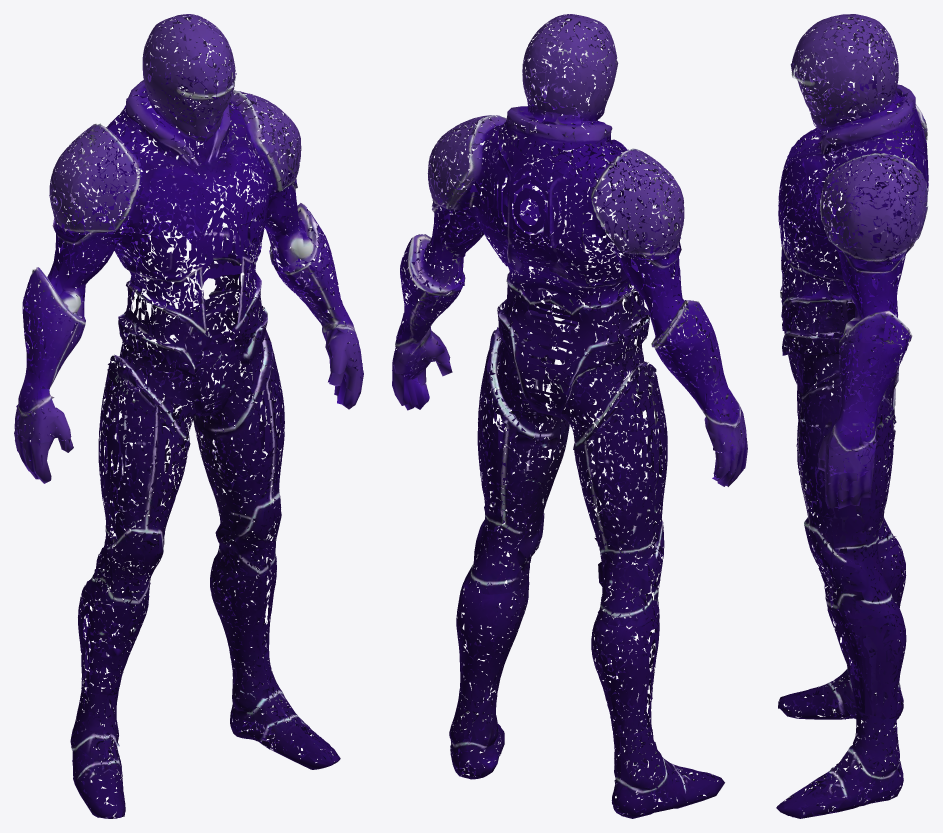
File: research.glb
3 renders of one model, left to right at view 1: azimuth 30°, elevation 25°; view 2: azimuth 150°, elevation 25°; view 3: azimuth 270°, elevation 25°, orthographic. The views are drawn at different scales.
Visible parts, largest first — view 1: tripo_node_0ace301a_tripo_mat_0ace301a_0.001, tripo_node_0ace301a, tripo_node_0ace301a_tripo_mat_0ace301a_0.002, tripo_node_0ace301a_tripo_mat_0ace301a_0.003, tripo_node_0ace301a_tripo_mat_0ace301a_0.004, tripo_node_0ace301a_tripo_mat_0ace301a_0.005, tripo_node_0ace301a_tripo_mat_0ace301a_0.006, tripo_node_0ace301a_tripo_mat_0ace301a_0.007; view 2: tripo_node_0ace301a_tripo_mat_0ace301a_0.001, tripo_node_0ace301a_tripo_mat_0ace301a_0.003, tripo_node_0ace301a_tripo_mat_0ace301a_0.005, tripo_node_0ace301a_tripo_mat_0ace301a_0.002, tripo_node_0ace301a, tripo_node_0ace301a_tripo_mat_0ace301a_0.006, tripo_node_0ace301a_tripo_mat_0ace301a_0.004, tripo_node_0ace301a_tripo_mat_0ace301a_0.007; view 3: tripo_node_0ace301a, tripo_node_0ace301a_tripo_mat_0ace301a_0.006, tripo_node_0ace301a_tripo_mat_0ace301a_0.005, tripo_node_0ace301a_tripo_mat_0ace301a_0.001, tripo_node_0ace301a_tripo_mat_0ace301a_0.004, tripo_node_0ace301a_tripo_mat_0ace301a_0.007, tripo_node_0ace301a_tripo_mat_0ace301a_0.002, tripo_node_0ace301a_tripo_mat_0ace301a_0.003.
Boxes of the visible parts, <box> form: tripo_node_0ace301a_tripo_mat_0ace301a_0.001: <box>49,15,340,749</box>; tripo_node_0ace301a: <box>14,14,363,818</box>; tripo_node_0ace301a_tripo_mat_0ace301a_0.002: <box>53,103,224,817</box>; tripo_node_0ace301a_tripo_mat_0ace301a_0.003: <box>14,126,152,818</box>; tripo_node_0ace301a_tripo_mat_0ace301a_0.004: <box>64,17,274,719</box>; tripo_node_0ace301a_tripo_mat_0ace301a_0.005: <box>148,15,289,576</box>; tripo_node_0ace301a_tripo_mat_0ace301a_0.006: <box>198,49,301,749</box>; tripo_node_0ace301a_tripo_mat_0ace301a_0.007: <box>227,90,337,769</box>; tripo_node_0ace301a_tripo_mat_0ace301a_0.001: <box>402,16,683,627</box>; tripo_node_0ace301a_tripo_mat_0ace301a_0.003: <box>549,149,747,818</box>; tripo_node_0ace301a_tripo_mat_0ace301a_0.005: <box>436,14,597,577</box>; tripo_node_0ace301a_tripo_mat_0ace301a_0.002: <box>529,142,717,800</box>; tripo_node_0ace301a: <box>392,16,735,814</box>; tripo_node_0ace301a_tripo_mat_0ace301a_0.006: <box>428,28,576,779</box>; tripo_node_0ace301a_tripo_mat_0ace301a_0.004: <box>513,14,673,789</box>; tripo_node_0ace301a_tripo_mat_0ace301a_0.007: <box>400,115,522,777</box>; tripo_node_0ace301a: <box>777,20,927,818</box>; tripo_node_0ace301a_tripo_mat_0ace301a_0.006: <box>783,55,913,794</box>; tripo_node_0ace301a_tripo_mat_0ace301a_0.005: <box>782,18,928,601</box>; tripo_node_0ace301a_tripo_mat_0ace301a_0.001: <box>780,14,928,814</box>; tripo_node_0ace301a_tripo_mat_0ace301a_0.004: <box>778,18,925,636</box>; tripo_node_0ace301a_tripo_mat_0ace301a_0.007: <box>776,154,928,815</box>; tripo_node_0ace301a_tripo_mat_0ace301a_0.002: <box>778,89,927,720</box>; tripo_node_0ace301a_tripo_mat_0ace301a_0.003: <box>779,94,927,719</box>.
Bounding box in the file's own units: 0.8673 × 1.85 × 0.3432.
1 material, 1 textured.
